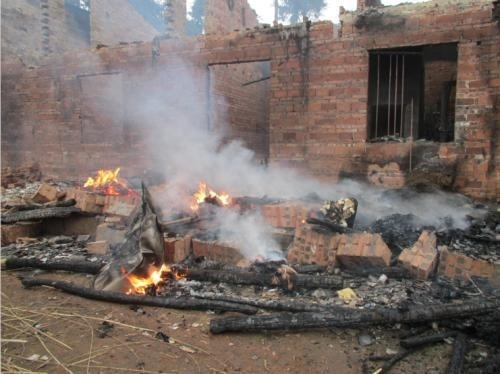fire: (120, 258, 184, 295), (79, 163, 132, 195), (190, 180, 233, 208)
